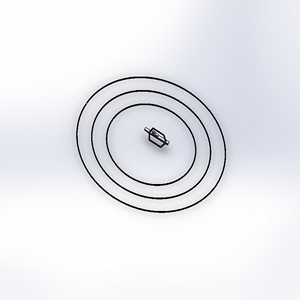circle: (72, 71, 231, 216)
submarine: (138, 122, 176, 156)
